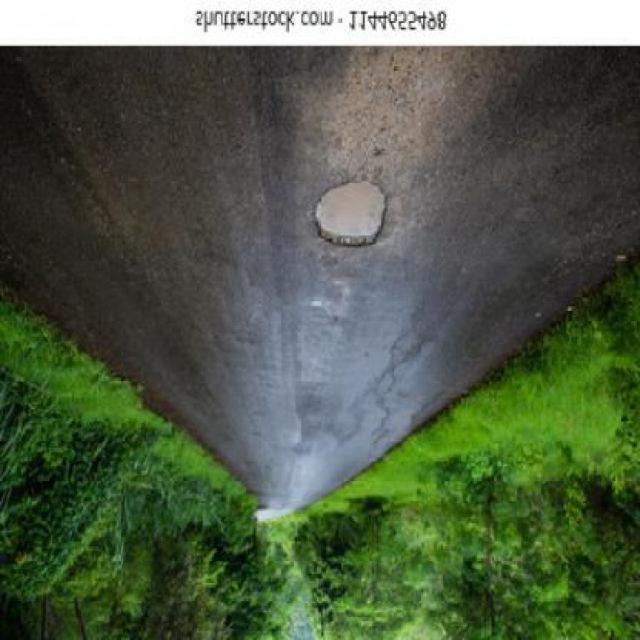Pothole: (315, 181, 386, 246)
